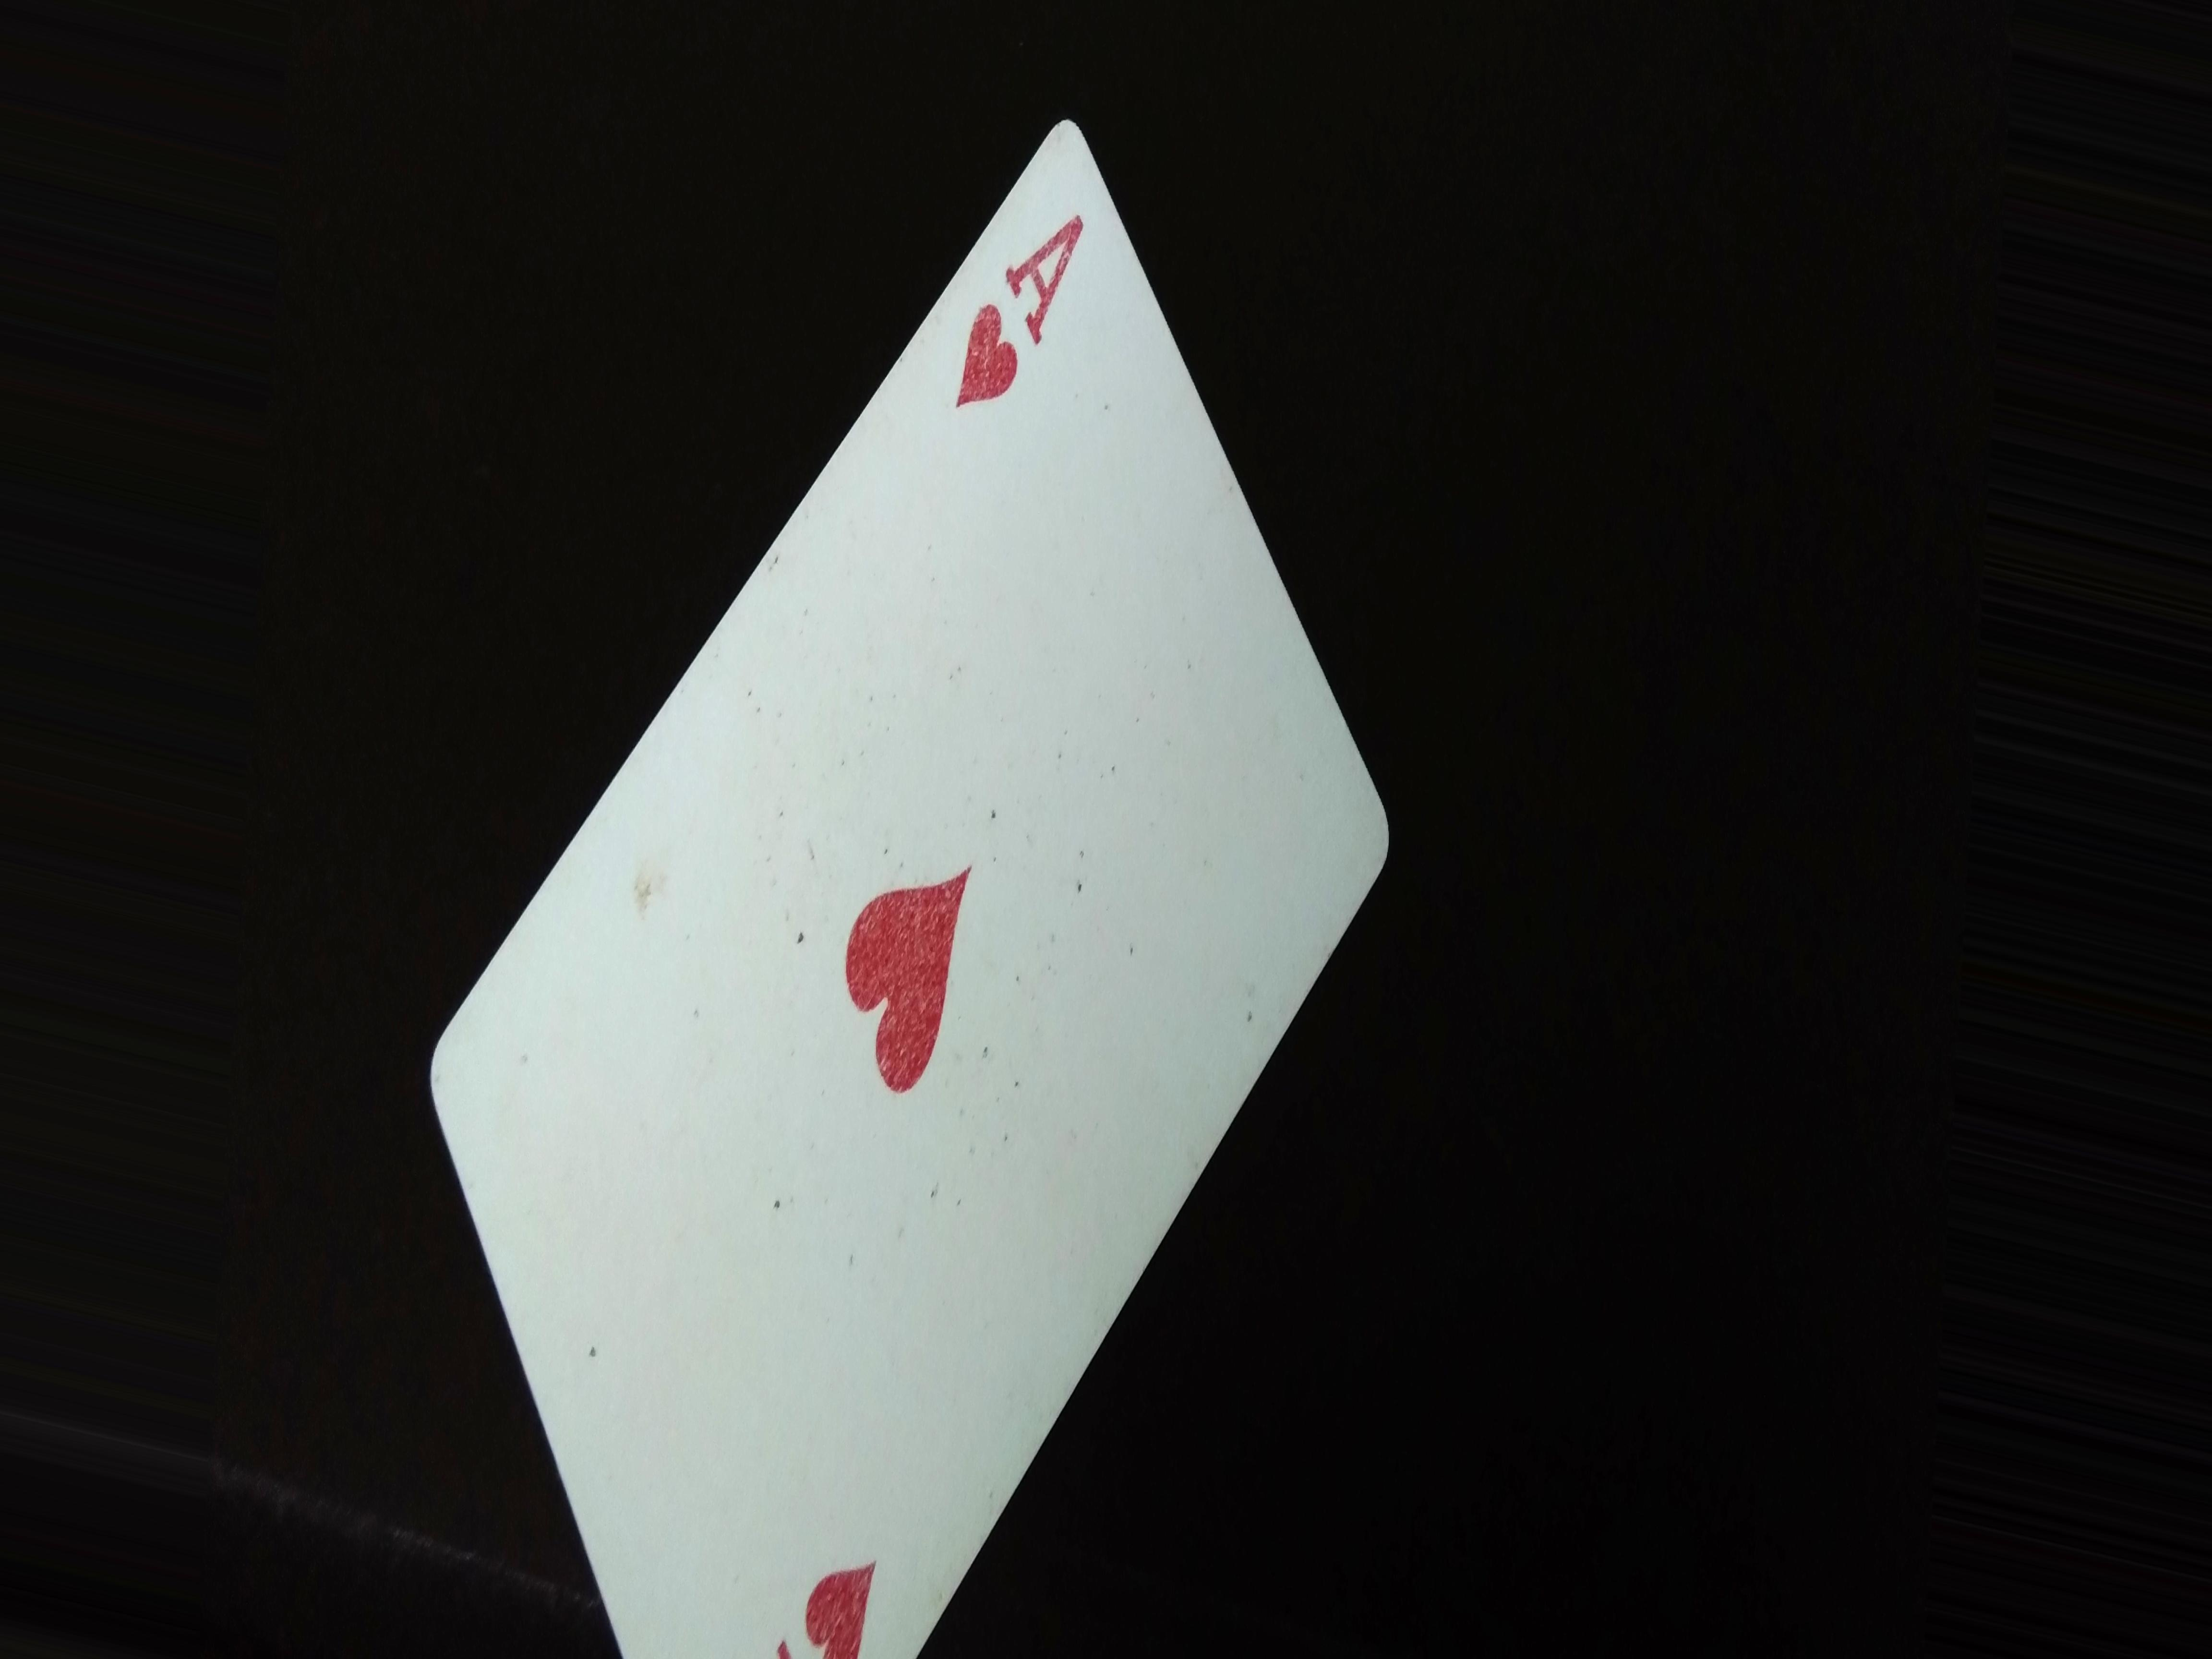AH: (928, 173, 1109, 429)
